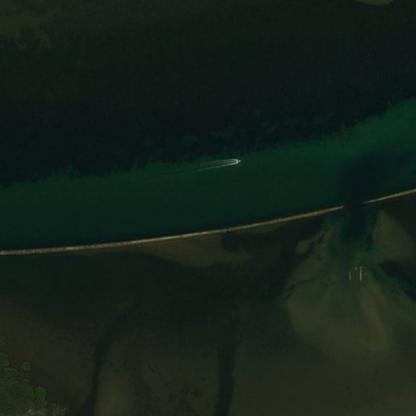ship: (238, 157, 241, 160)
